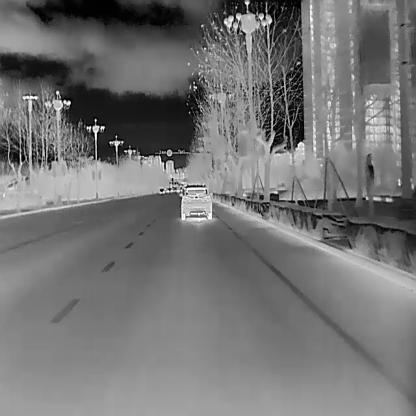car: (178, 183, 213, 219), (158, 188, 164, 193)
